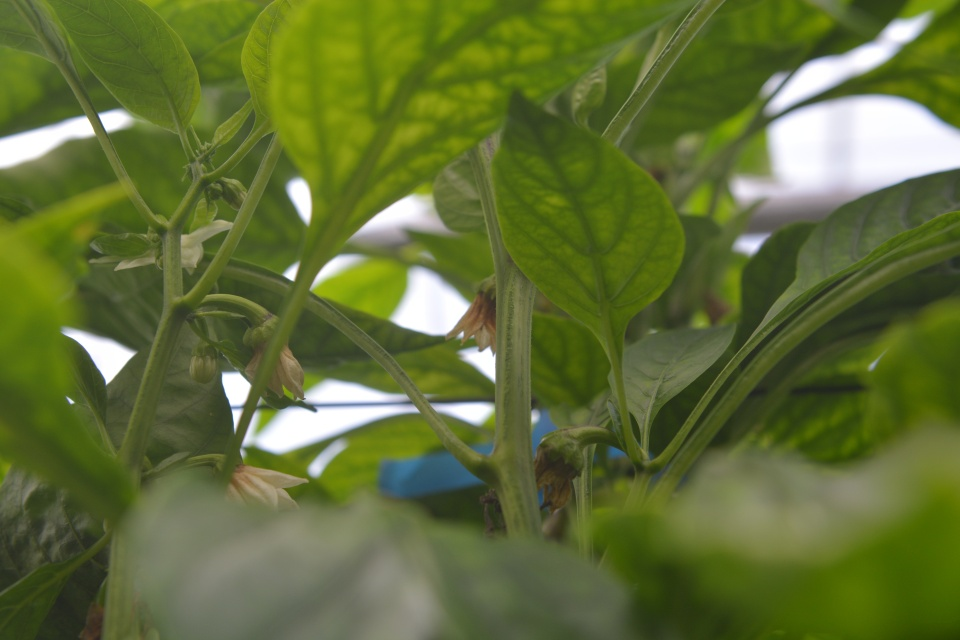flower: (85, 215, 238, 278), (222, 462, 312, 518)
